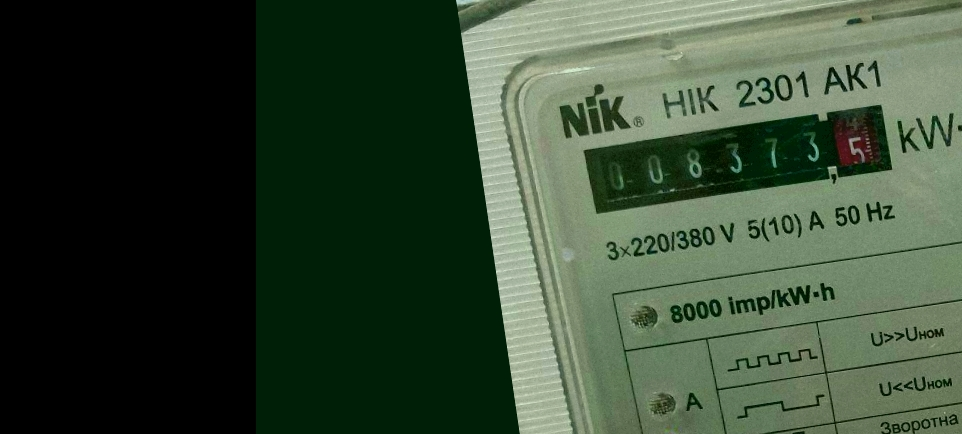0: (604, 155, 629, 194), (643, 148, 667, 187)
3: (799, 125, 826, 165), (721, 137, 748, 176)
4: (842, 111, 863, 134)
5: (846, 132, 869, 164)
7: (761, 130, 784, 171)
8: (682, 142, 708, 181)
screen: (577, 95, 903, 227)
